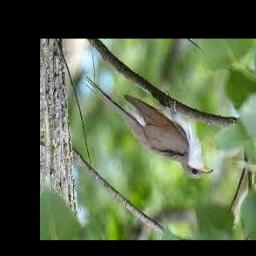Cuckoo: (83, 76, 214, 179)
